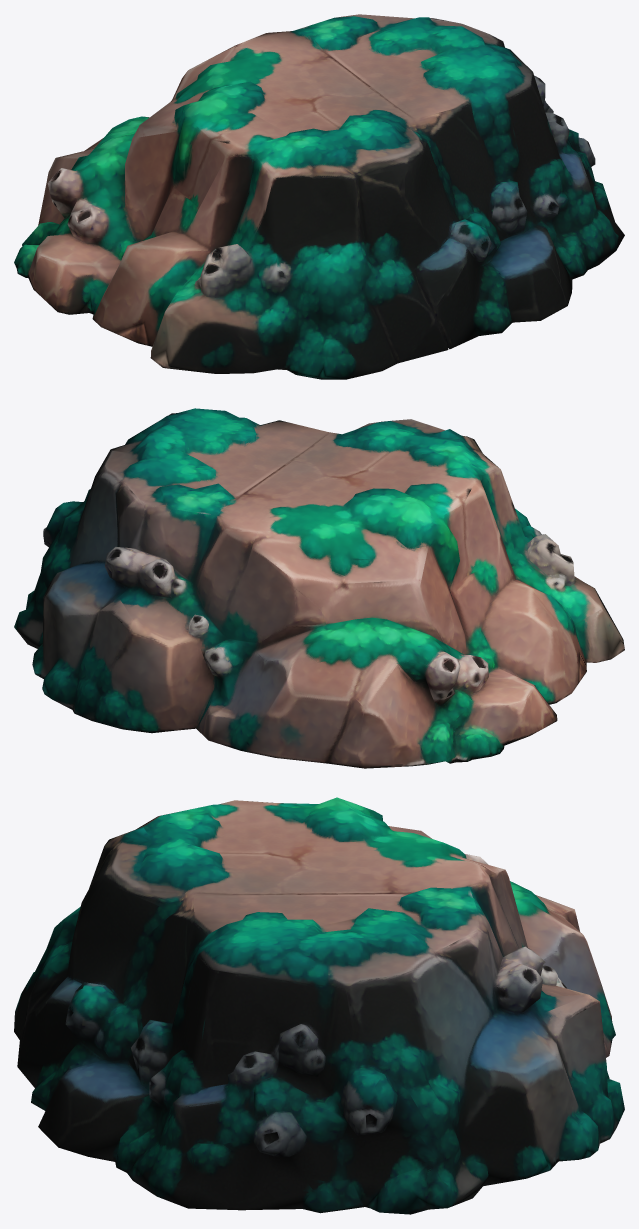
The model's file is rock_big.glb.
3 renders of one model, top to bottom at view 1: azimuth 30°, elevation 25°; view 2: azimuth 150°, elevation 25°; view 3: azimuth 270°, elevation 25°, orthographic. The views are drawn at different scales.
Parts seen in each view (by area): view 1: world; view 2: world; view 3: world.
Boxes of the visible parts, x1,y1,x2,y2 form: world: [14, 14, 624, 379]; world: [14, 408, 624, 768]; world: [14, 797, 624, 1214].
Size of the model in its own units: 0.9965 by 0.3586 by 0.8836.
Materials: 1 (1 with a texture image).
